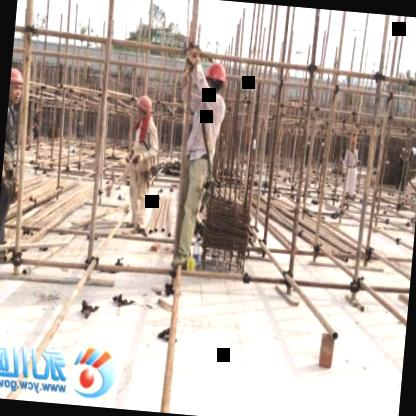helmet: (202, 59, 232, 98), (8, 65, 28, 107), (132, 92, 155, 120)
